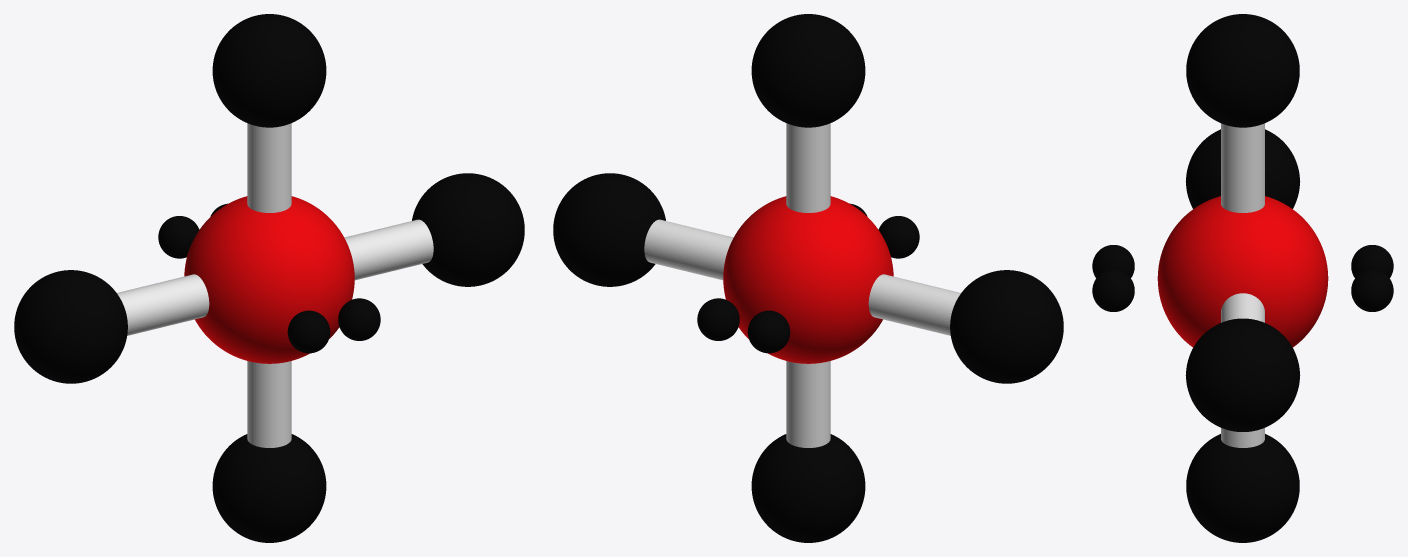
File: squareplanar.glb
3 views of the same model, side by side, from view 1: azimuth 30°, elevation 25°; view 2: azimuth 150°, elevation 25°; view 3: azimuth 270°, elevation 25° (orthographic).
Parts seen in each view (by area): view 1: Sphere, Sphere.002, Sphere.006, Sphere.004, Sphere.003, Sphere.001, Sphere.005; view 2: Sphere, Sphere.002, Sphere.006, Sphere.004, Sphere.003, Sphere.005, Sphere.001; view 3: Sphere, Sphere.002, Sphere.003, Sphere.004, Sphere.006, Sphere.005, Sphere.001.
Boxes of the visible parts, bbox=[...] form: Sphere: bbox=[184, 196, 354, 363]; Sphere.002: bbox=[212, 14, 326, 212]; Sphere.006: bbox=[14, 270, 209, 383]; Sphere.004: bbox=[212, 361, 326, 542]; Sphere.003: bbox=[344, 173, 524, 286]; Sphere.001: bbox=[287, 298, 380, 353]; Sphere.005: bbox=[158, 203, 227, 258]; Sphere: bbox=[723, 196, 893, 363]; Sphere.002: bbox=[751, 14, 865, 212]; Sphere.006: bbox=[868, 270, 1063, 383]; Sphere.004: bbox=[751, 361, 865, 542]; Sphere.003: bbox=[553, 173, 733, 286]; Sphere.005: bbox=[697, 298, 790, 353]; Sphere.001: bbox=[850, 203, 919, 258]; Sphere: bbox=[1157, 196, 1328, 347]; Sphere.002: bbox=[1186, 14, 1299, 212]; Sphere.003: bbox=[1185, 293, 1300, 431]; Sphere.004: bbox=[1186, 428, 1299, 542]; Sphere.006: bbox=[1185, 129, 1300, 208]; Sphere.005: bbox=[1351, 245, 1393, 311]; Sphere.001: bbox=[1092, 245, 1134, 311].
Size of the model in its own units: 9.98 by 9.98 by 5.26.
